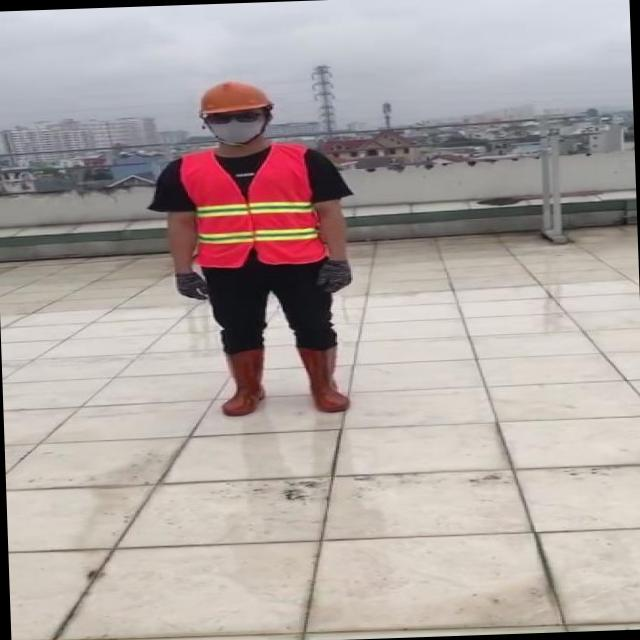hard_hat: (193, 78, 271, 115)
safety_vest: (178, 145, 324, 269)
vehicle: (144, 74, 365, 432)
work_boots: (293, 343, 357, 414), (216, 347, 268, 416)
